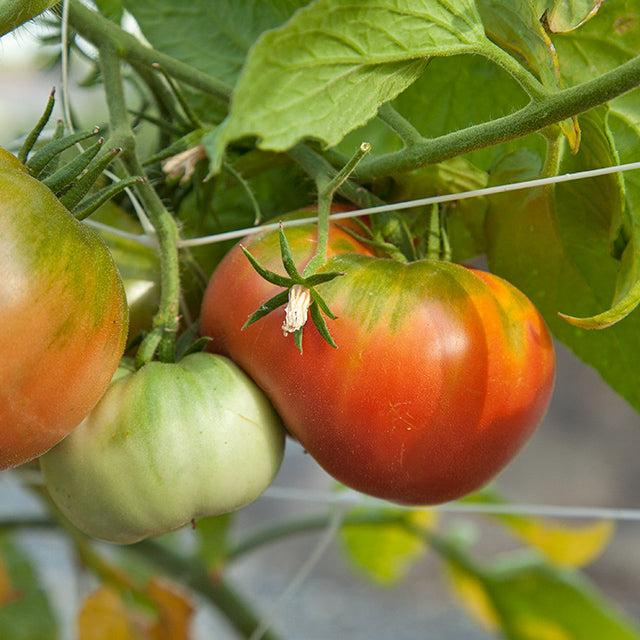tomato: (200, 211, 554, 504)
